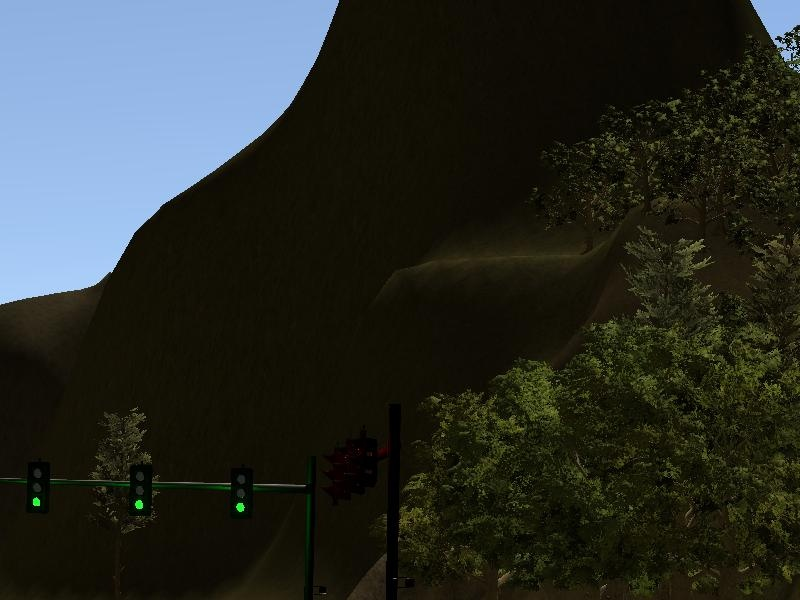Green: (229, 466, 254, 521), (26, 460, 49, 515), (129, 463, 152, 517)
